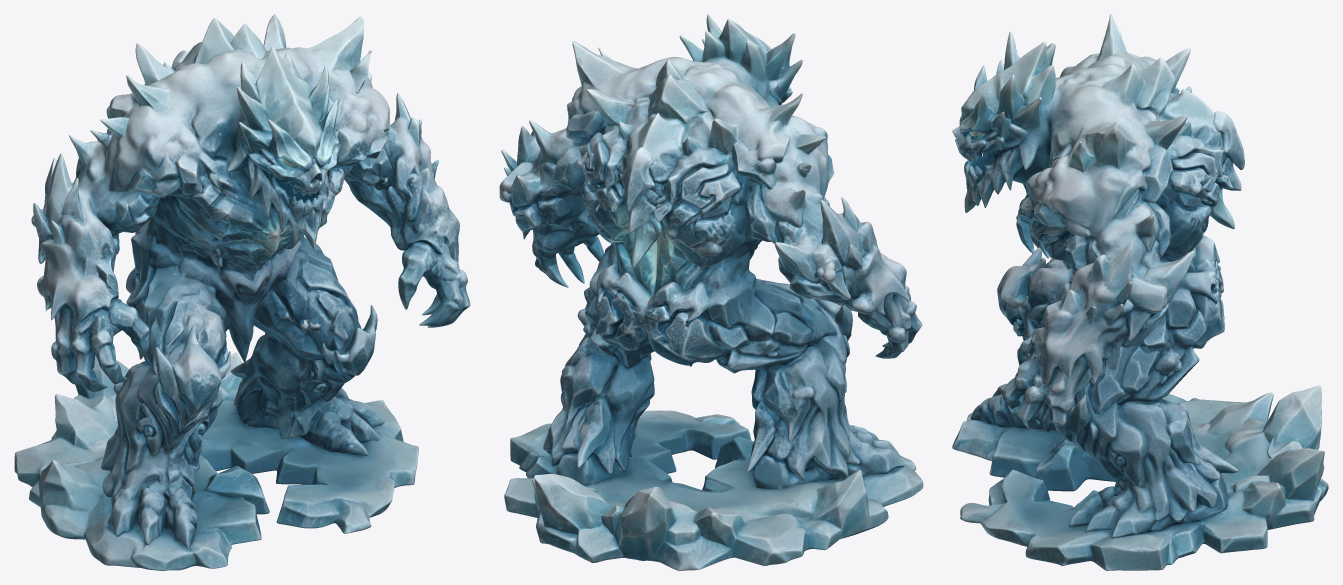
File: ice-golem.glb
The picture shows the model from 3 angles, left to right: view 1: azimuth 30°, elevation 25°; view 2: azimuth 150°, elevation 25°; view 3: azimuth 270°, elevation 25°; orthographic projection. The views are drawn at different scales.
Visible parts, largest first — view 1: tripo_part_0, tripo_part_1, tripo_part_6, tripo_part_16, tripo_part_2, tripo_part_3, tripo_part_5, tripo_part_8, tripo_part_9, tripo_part_7, tripo_part_12, tripo_part_10 (+5 smaller); view 2: tripo_part_0, tripo_part_16, tripo_part_19, tripo_part_1, tripo_part_6, tripo_part_3, tripo_part_5, tripo_part_8, tripo_part_12, tripo_part_2, tripo_part_14, tripo_part_7 (+5 smaller); view 3: tripo_part_0, tripo_part_3, tripo_part_8, tripo_part_7, tripo_part_2, tripo_part_19, tripo_part_9, tripo_part_16, tripo_part_13, tripo_part_1, tripo_part_6, tripo_part_11 (+2 smaller).
Boxes of the visible parts, x1,y1,x2,y2 form: tripo_part_0: (14,352,418,570); tripo_part_1: (101,326,230,549); tripo_part_6: (90,43,264,197); tripo_part_16: (126,165,353,361); tripo_part_2: (227,46,342,250); tripo_part_3: (230,305,384,456); tripo_part_5: (31,153,118,356); tripo_part_8: (260,14,389,168); tripo_part_9: (253,236,360,361); tripo_part_7: (386,93,459,262); tripo_part_12: (132,266,230,378); tripo_part_10: (51,298,149,391); tripo_part_0: (504,410,923,570); tripo_part_16: (581,179,774,366); tripo_part_19: (576,59,741,268); tripo_part_1: (747,298,904,489); tripo_part_6: (686,61,833,208); tripo_part_3: (543,334,654,485); tripo_part_5: (775,197,910,330); tripo_part_8: (566,41,694,139); tripo_part_12: (716,278,837,373); tripo_part_2: (679,14,802,106); tripo_part_14: (745,183,829,244); tripo_part_7: (499,126,589,243); tripo_part_0: (952,385,1328,570); tripo_part_3: (1059,393,1238,538); tripo_part_8: (1026,84,1187,240); tripo_part_7: (1026,241,1194,396); tripo_part_2: (952,31,1059,212); tripo_part_19: (1099,57,1244,229); tripo_part_9: (1074,296,1206,414); tripo_part_16: (1018,155,1224,348); tripo_part_13: (1064,193,1170,278); tripo_part_1: (970,247,1056,431); tripo_part_6: (1055,14,1190,100); tripo_part_11: (1002,336,1092,430).
Bounding box in the file's own units: 0.9009 × 0.9999 × 0.7504.
18 materials, 18 textured.
